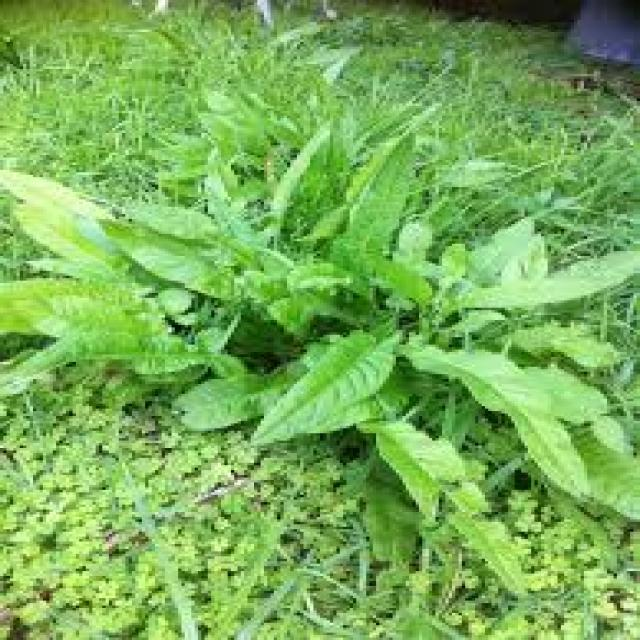organic waste: (0, 113, 637, 529), (260, 221, 640, 502), (30, 148, 372, 411)
